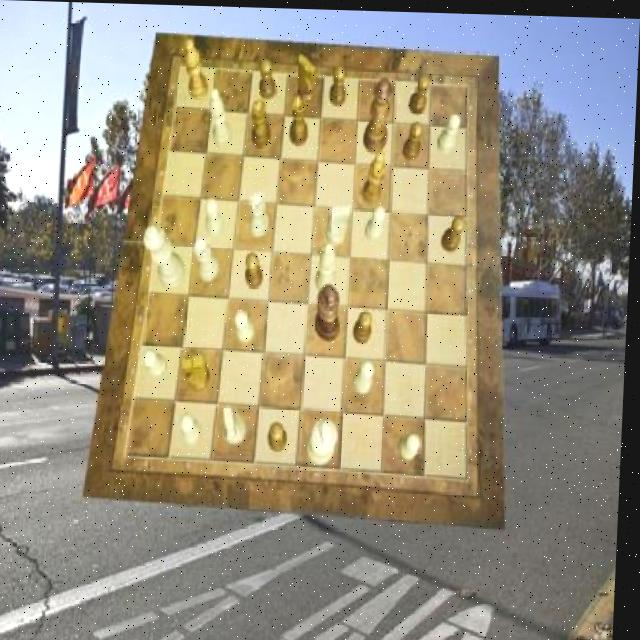bishop: (184, 38, 211, 100), (363, 147, 387, 202)
black-bishop: (318, 281, 344, 339)
black-king: (185, 352, 215, 391), (297, 51, 318, 103)
black-knight: (410, 73, 432, 113), (444, 214, 468, 250), (404, 119, 425, 158), (260, 57, 278, 99), (331, 63, 349, 105), (247, 250, 266, 287), (356, 307, 375, 341), (271, 420, 291, 448)
black-pawn: (364, 75, 394, 151)
black-queen: (251, 97, 273, 146), (291, 94, 311, 146)
black-rook: (209, 88, 235, 149), (318, 241, 340, 293)
white-bishop: (310, 417, 343, 465)
white-king: (327, 202, 353, 245), (226, 404, 252, 442)
white-knight: (438, 111, 462, 153), (367, 203, 389, 239), (206, 196, 226, 235), (146, 348, 171, 378), (183, 412, 205, 445), (358, 358, 379, 392), (237, 309, 258, 343), (401, 430, 425, 458)
white-pawn: (144, 222, 189, 288)
white-queen: (195, 237, 222, 281), (252, 189, 274, 235)
